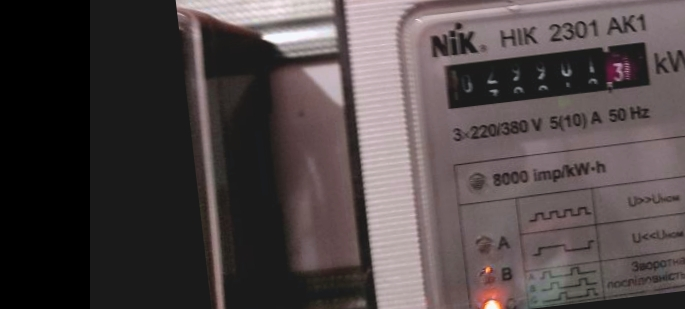0: (558, 52, 574, 78), (458, 70, 476, 93)
1: (582, 50, 598, 75)
2: (482, 65, 501, 85)
3: (611, 58, 626, 81)
9: (533, 57, 549, 80), (508, 60, 523, 83)
screen: (430, 29, 663, 119)
